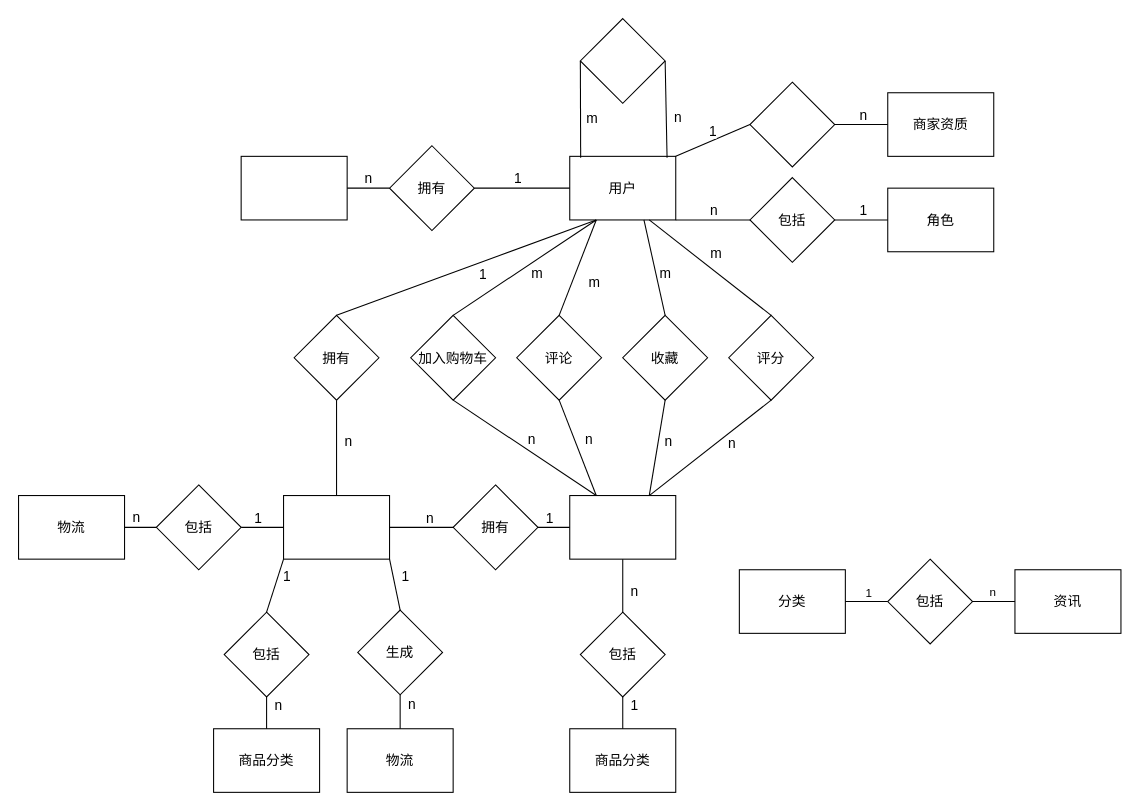
The diagram is 1139 pixels wide and 811 high, and some of its shapes have lost their labels. The shapes that lost their labels are listed below. From the top down, each one's centre as x and y in pixels, then its label:
the point at 622,60: 咨询
the point at 792,124: 对应
the point at 293,187: 地址
the point at 336,526: 订单
the point at 622,526: 商品
